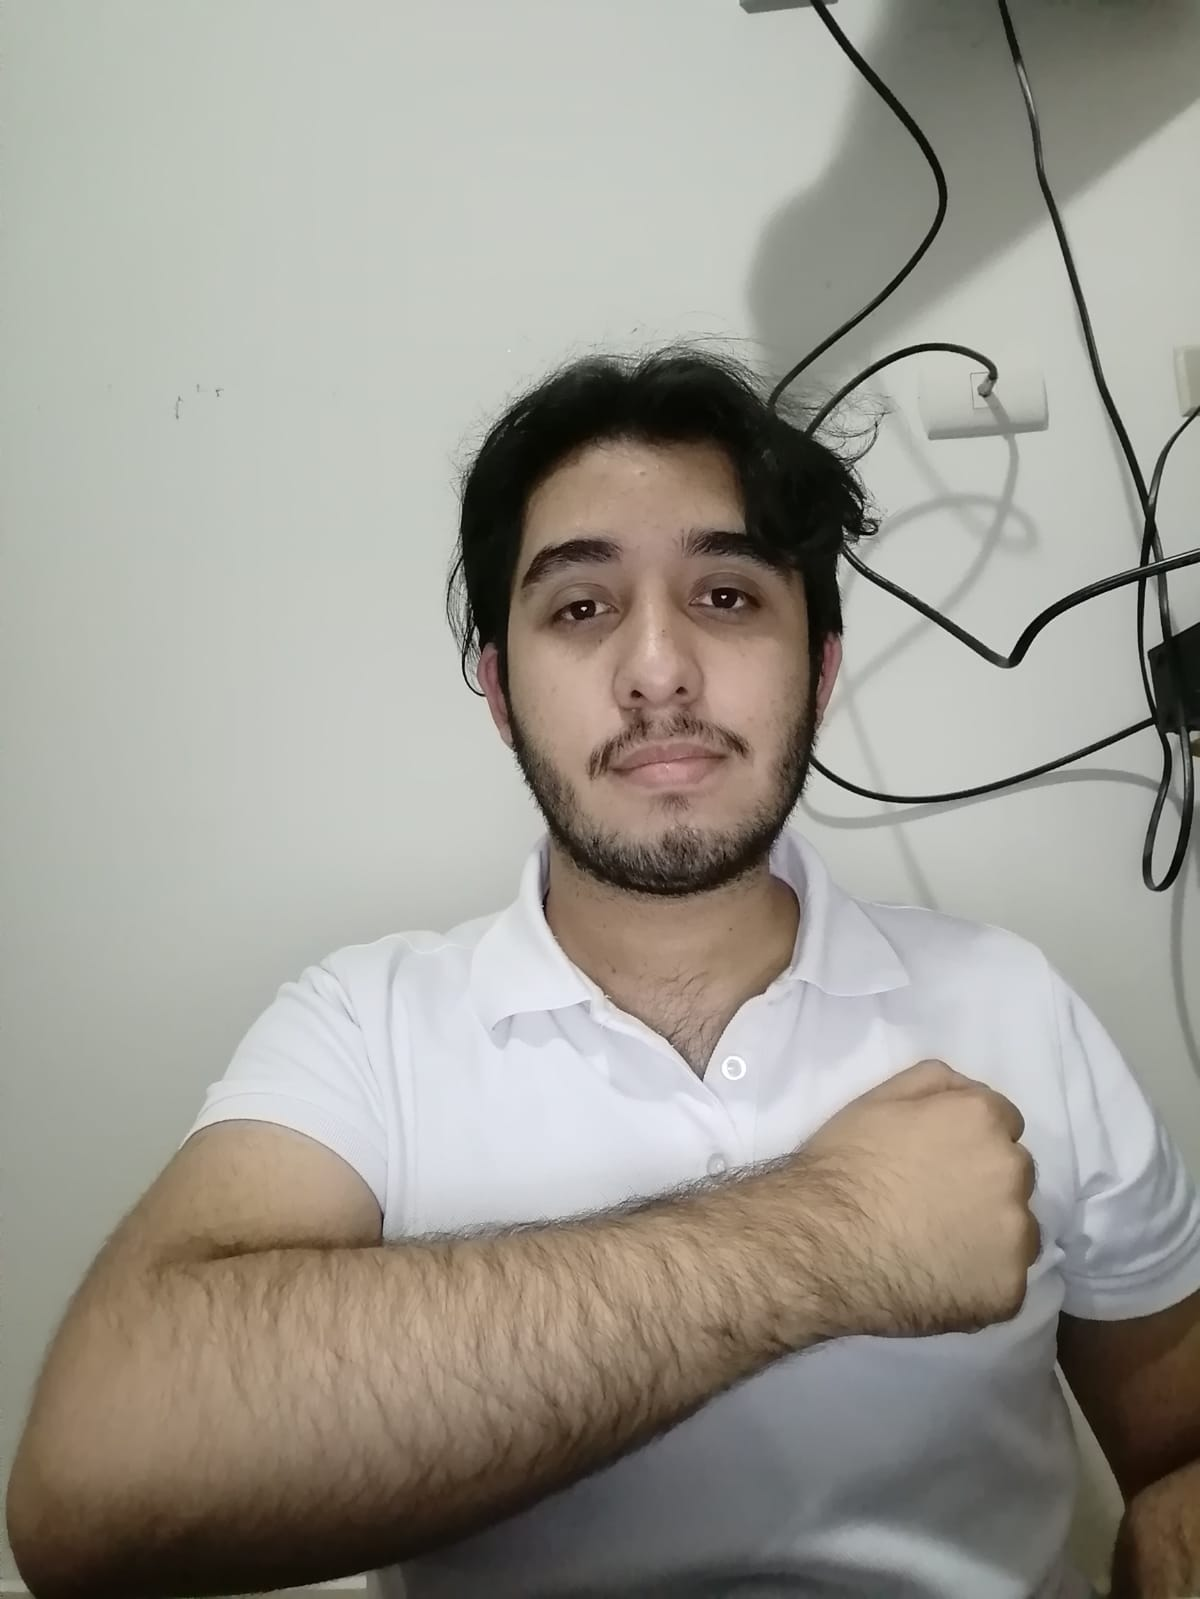Sorry: (533, 1034, 1046, 1426)
